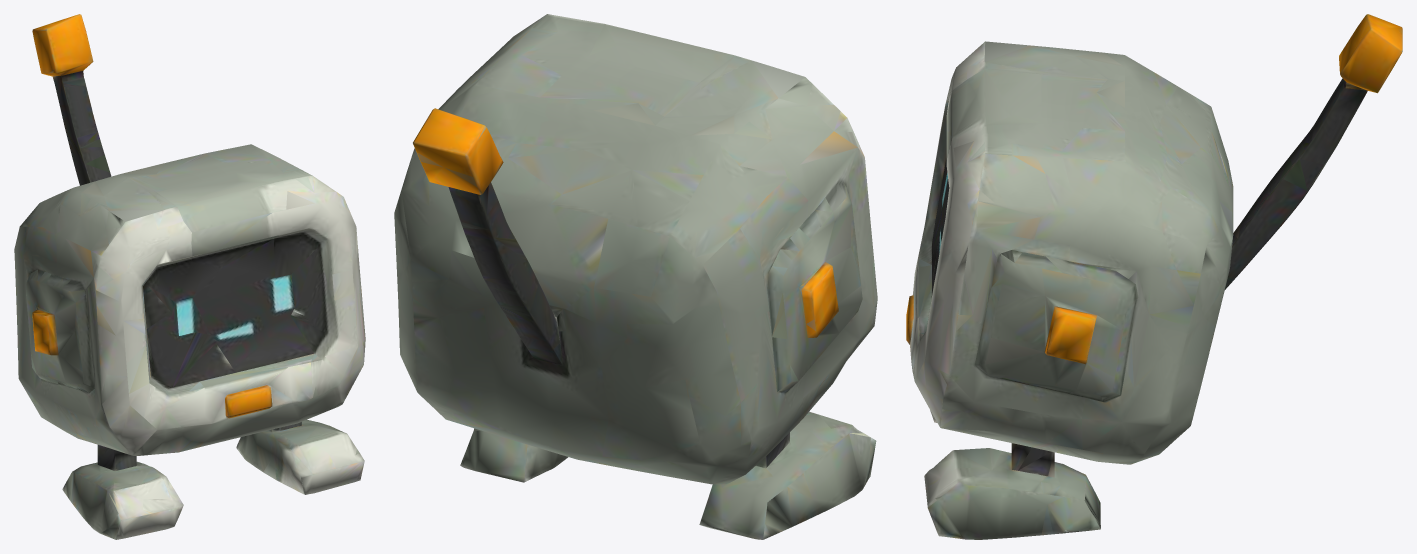
File: null_pet.glb
3 renders of one model, left to right at view 1: azimuth 30°, elevation 25°; view 2: azimuth 150°, elevation 25°; view 3: azimuth 270°, elevation 25°, orthographic. The views are drawn at different scales.
Visible parts, largest first — view 1: node_0; view 2: node_0; view 3: node_0.
Part boxes in pixels (bbox=[...]): node_0: bbox=[14, 14, 365, 539]; node_0: bbox=[394, 14, 877, 539]; node_0: bbox=[906, 14, 1402, 539].
Size of the model in its own units: 0.818 by 0.9939 by 1.
Materials: 1 (1 with a texture image).
